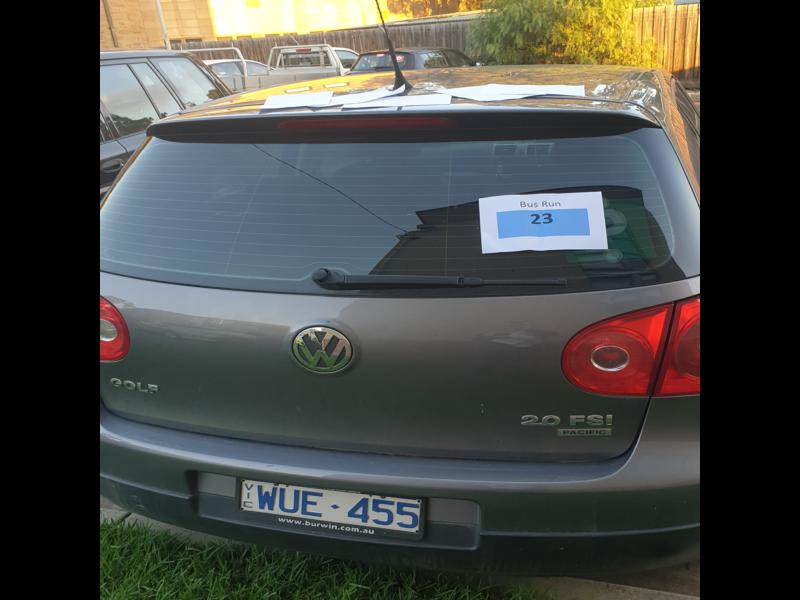BusRun: (496, 211, 588, 236)
PlateNo: (238, 475, 421, 534)
